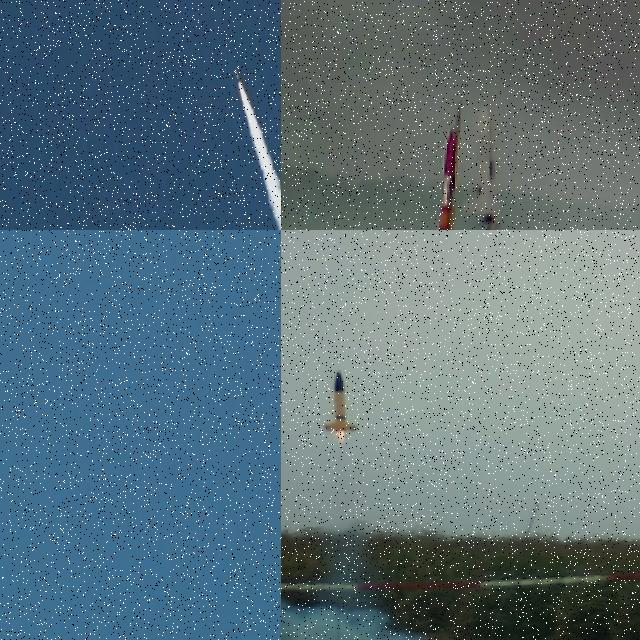Rocket: (464, 104, 504, 221), (421, 119, 461, 230), (322, 370, 359, 432), (235, 69, 241, 85)
